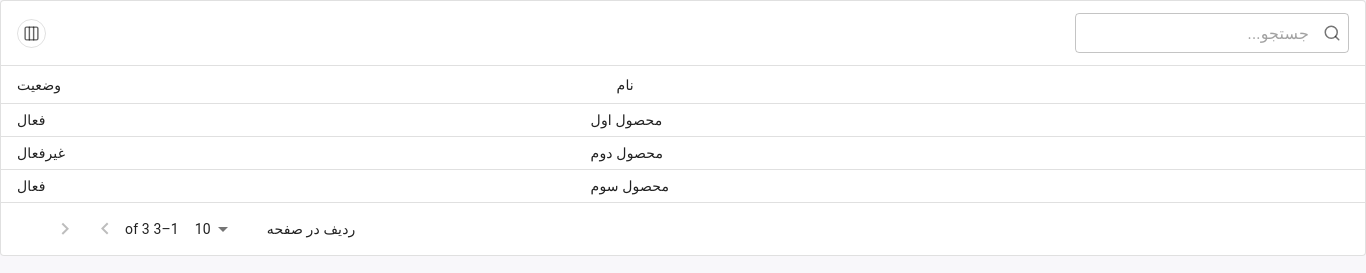
Test: DataTable › hides a column from the column-visibility menu
The image size is (1366, 273).
Step 1. Click the button named "مدیریت ستون‌ها" → (32, 33), box 17,18 -> 46,48
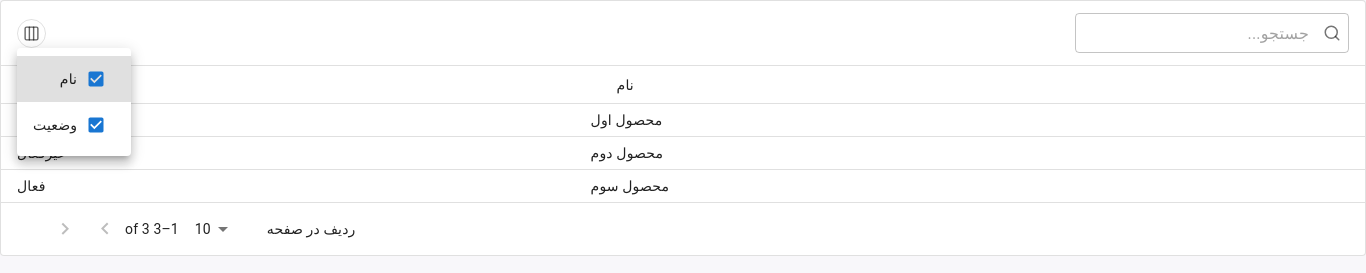
Check: the menu item "وضعیت" is shown
Step 2. Click the menu item "وضعیت" → (70, 125), box 33,115 -> 106,135
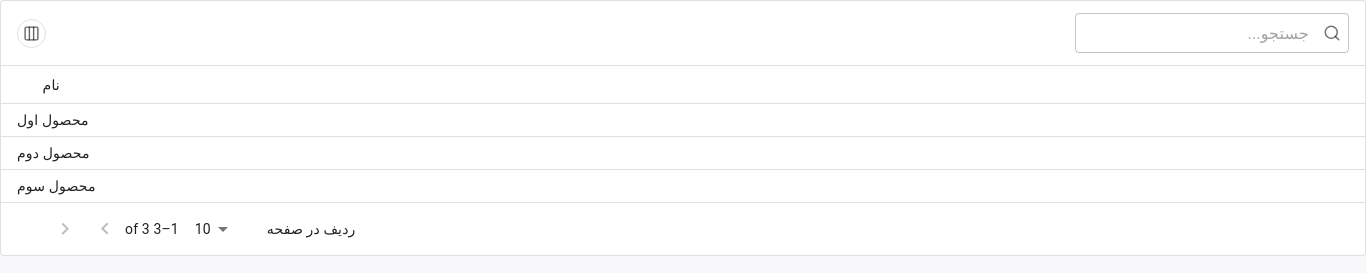
Check: the text "محصول اول" is shown, box 1,104 -> 1365,137
Check: the column heading "وضعیت" is gone
Check: the text "غیرفعال" is gone
